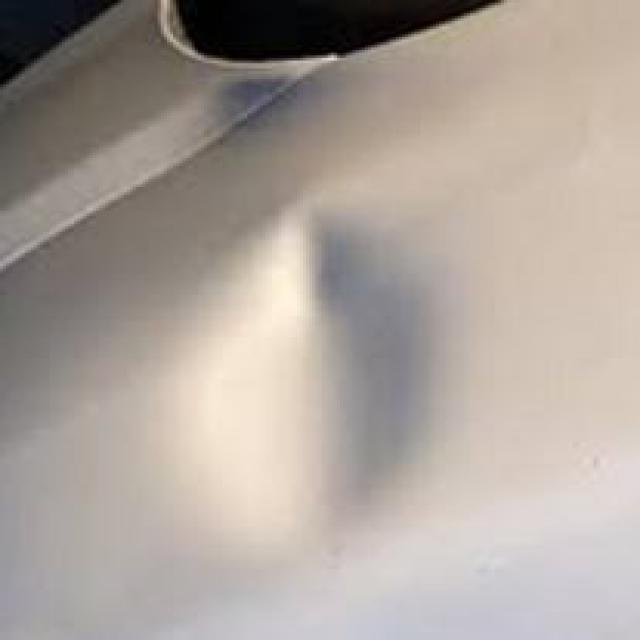dent: (172, 193, 462, 558)
